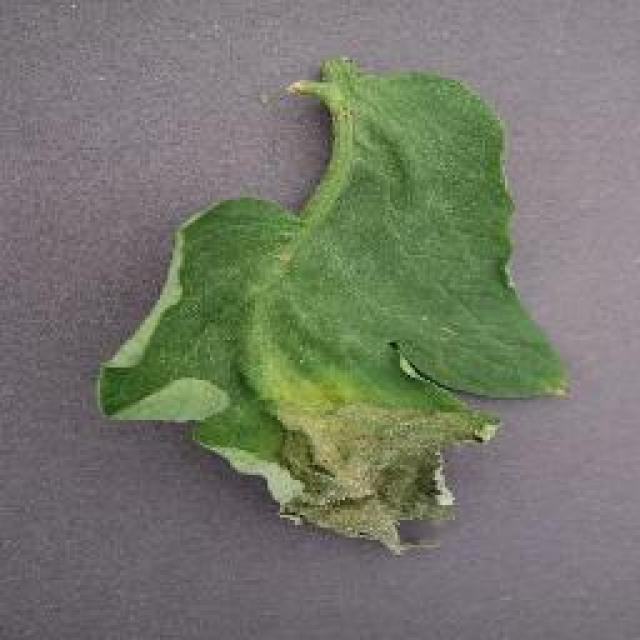Tomato late blight leaf: (90, 60, 572, 562)
